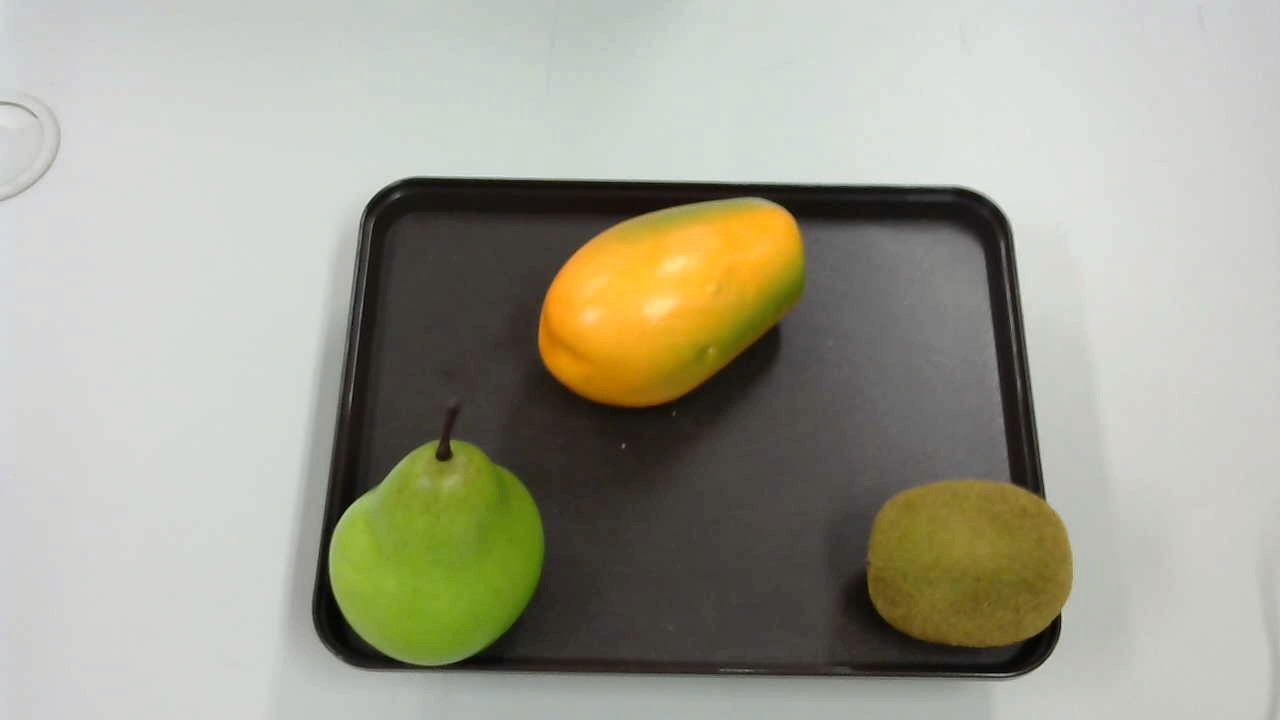green pear: (325, 406, 549, 670)
kiwi fruit: (860, 480, 1083, 654)
papya: (530, 196, 811, 410)
